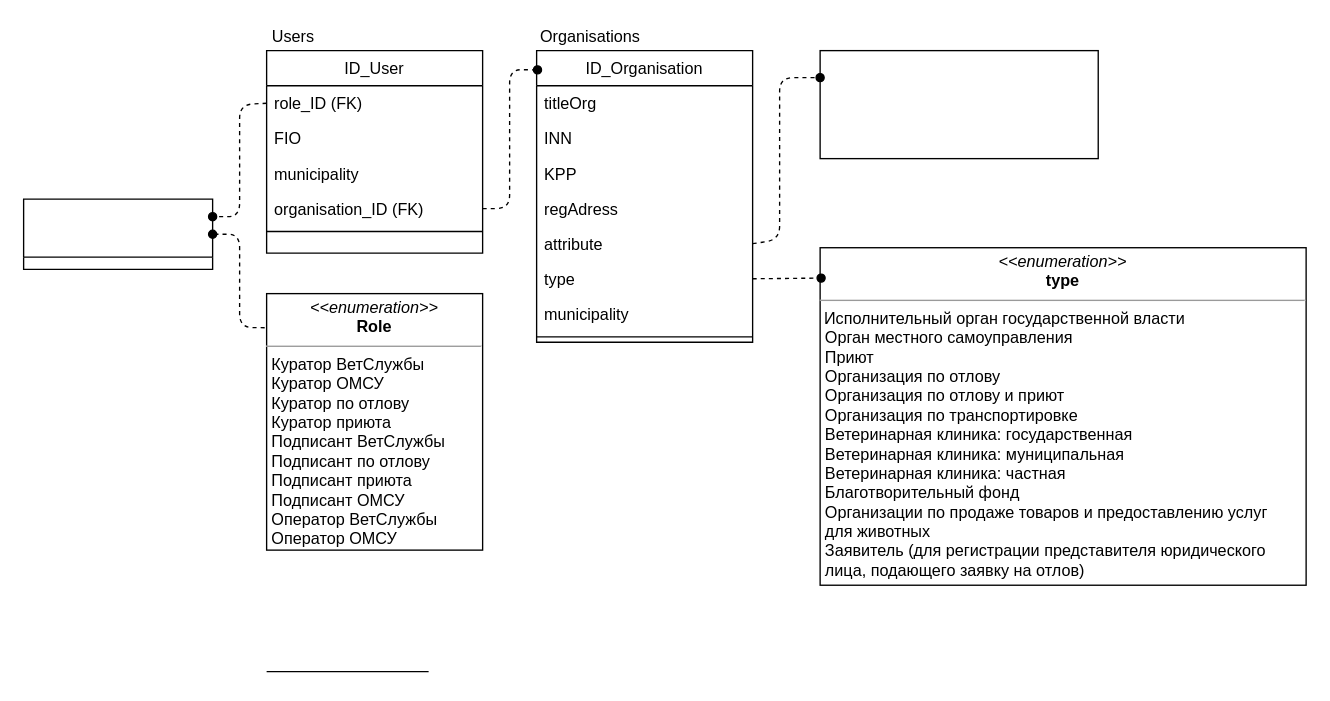
Image size: 1330x701. Some labels were removed from this diagram. The shapes that lost their labels are listed below. From the top down, each one's centre as x and y in pixels, then its label:
At [958,104]: "<<enumeration>> attribute Юридическое лицо Индивидуальный предприниматель".
At [117,233]: "User_id: int (FK) Role_id: int (FK)".
